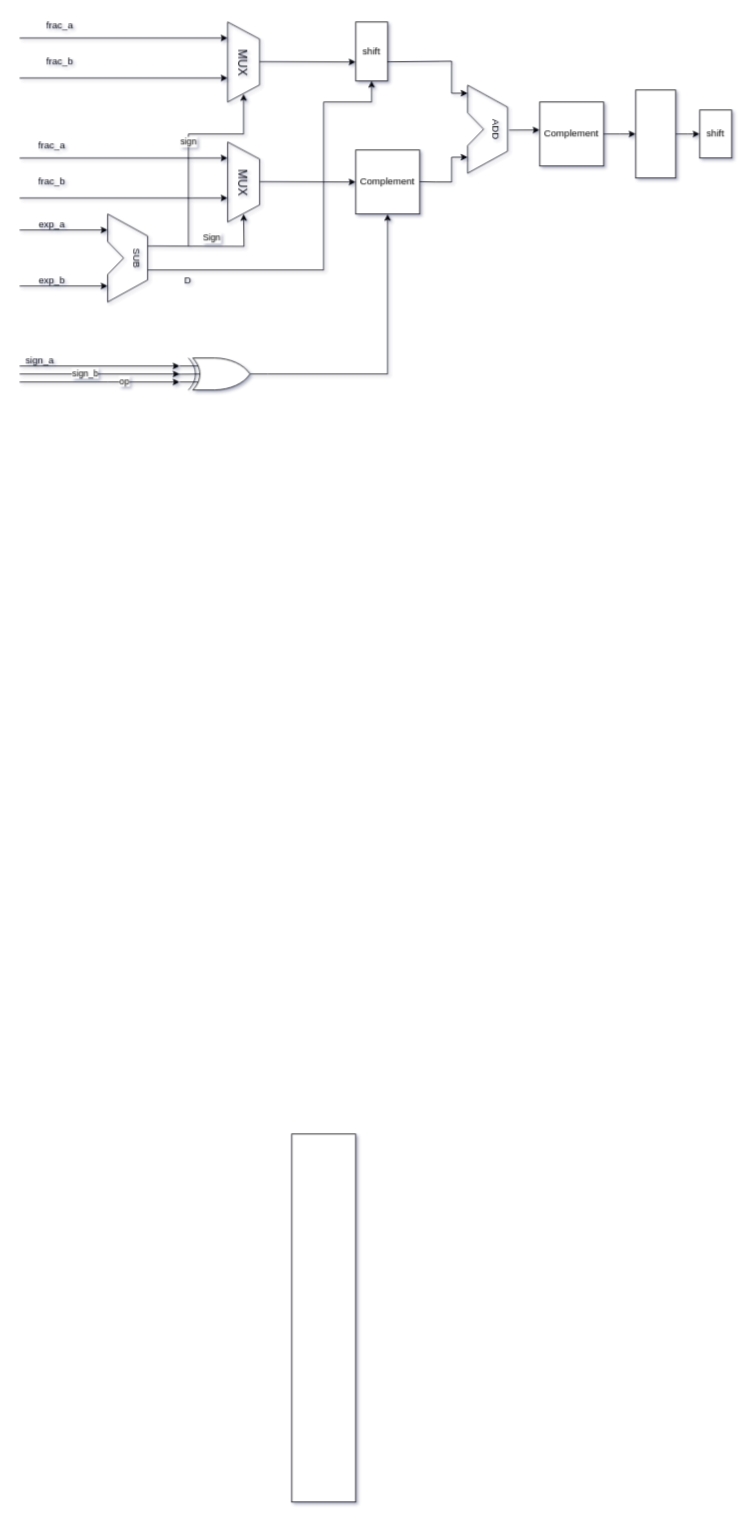
This 750x1521 diagram has some shape labels left out. Each missing label, with the centre of its shape:
LZD: the point at 655,133
Pre-Process: the point at 323,1317
